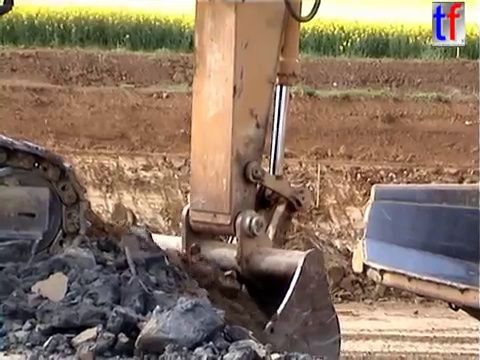excavator: (1, 1, 345, 360)
truck: (348, 179, 480, 325)
